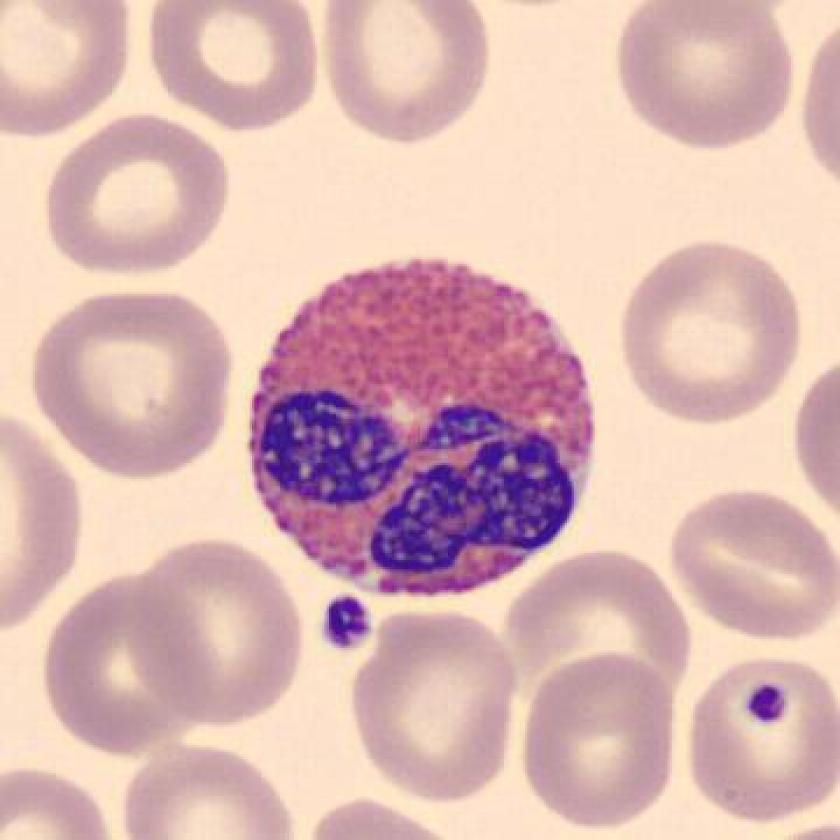eosinophil: (232, 244, 608, 614)
